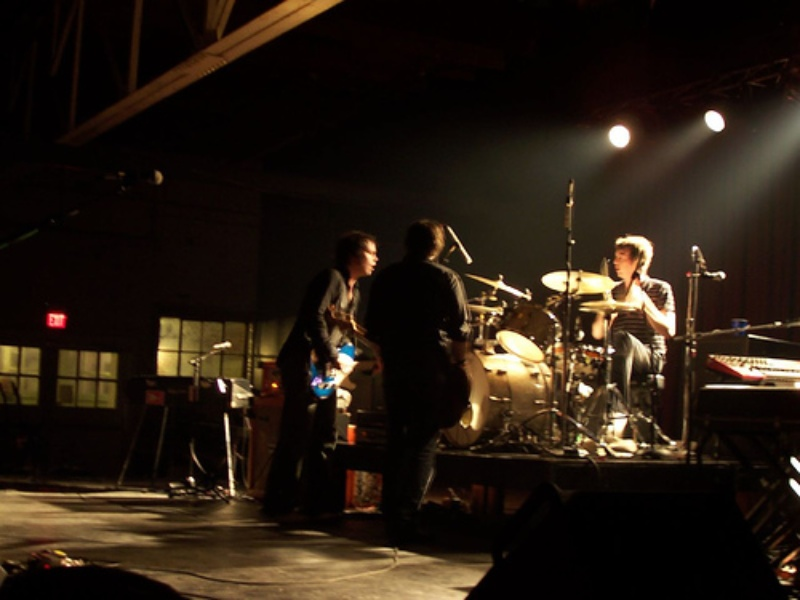person: (261, 229, 378, 524), (366, 217, 471, 541), (606, 234, 676, 413)
